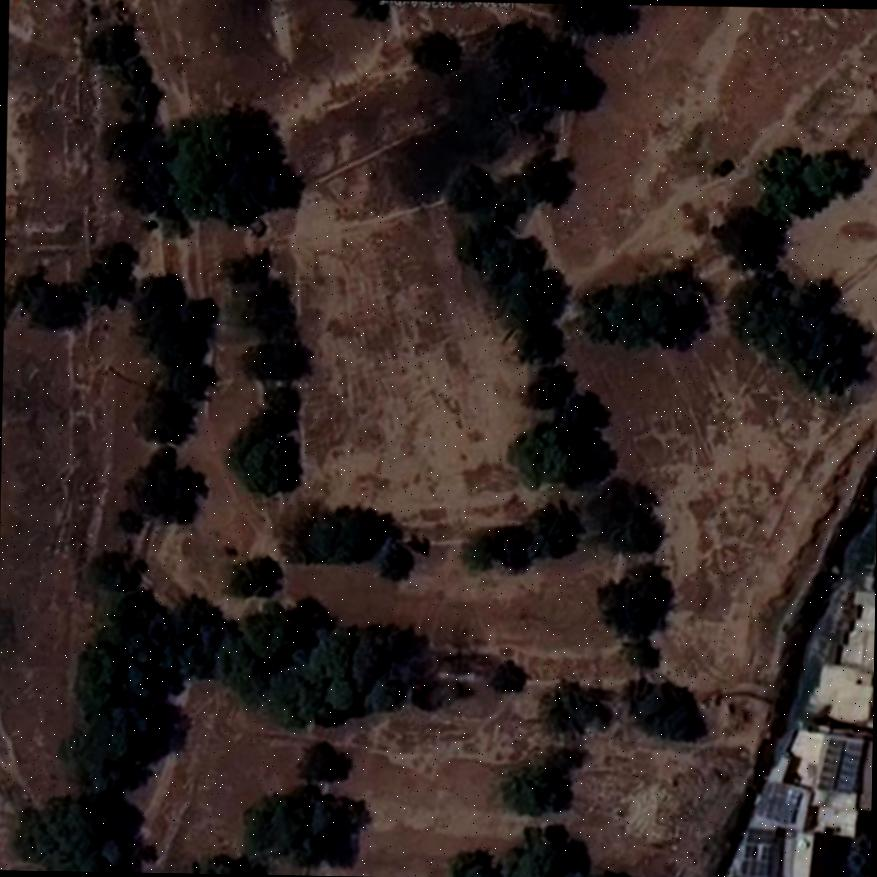Solarpanel: (817, 741, 862, 794), (754, 780, 802, 824)
